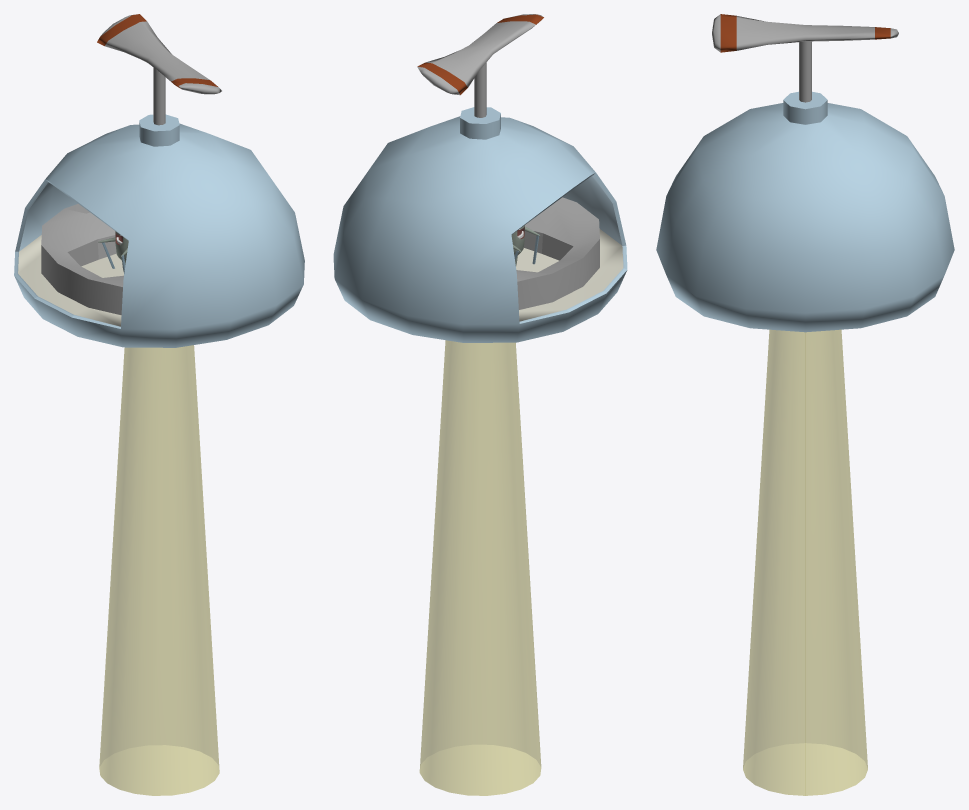
The model's file is PlanktonShip.fbx.
3 renders of one model, left to right at view 1: azimuth 30°, elevation 25°; view 2: azimuth 150°, elevation 25°; view 3: azimuth 270°, elevation 25°, orthographic. The views are drawn at different scales.
Visible parts, largest first — view 1: pCube10, pCylinder2, pCube11, pCylinder1; view 2: pCube10, pCylinder2, pCube11, pCylinder1; view 3: pCube10, pCylinder2, pCube11, pCylinder1.
Boxes of the visible parts, <box> form: pCube10: <box>14,114,304,347</box>; pCylinder2: <box>99,345,219,795</box>; pCube11: <box>97,14,221,94</box>; pCylinder1: <box>153,67,165,125</box>; pCube10: <box>333,107,627,342</box>; pCylinder2: <box>419,340,541,795</box>; pCube11: <box>417,14,543,95</box>; pCylinder1: <box>474,62,486,117</box>; pCube10: <box>656,91,954,332</box>; pCylinder2: <box>743,329,867,795</box>; pCube11: <box>712,14,898,52</box>; pCylinder1: <box>799,41,811,102</box>.
Size of the model in its own units: 0.4674 by 1.29 by 0.4674.
